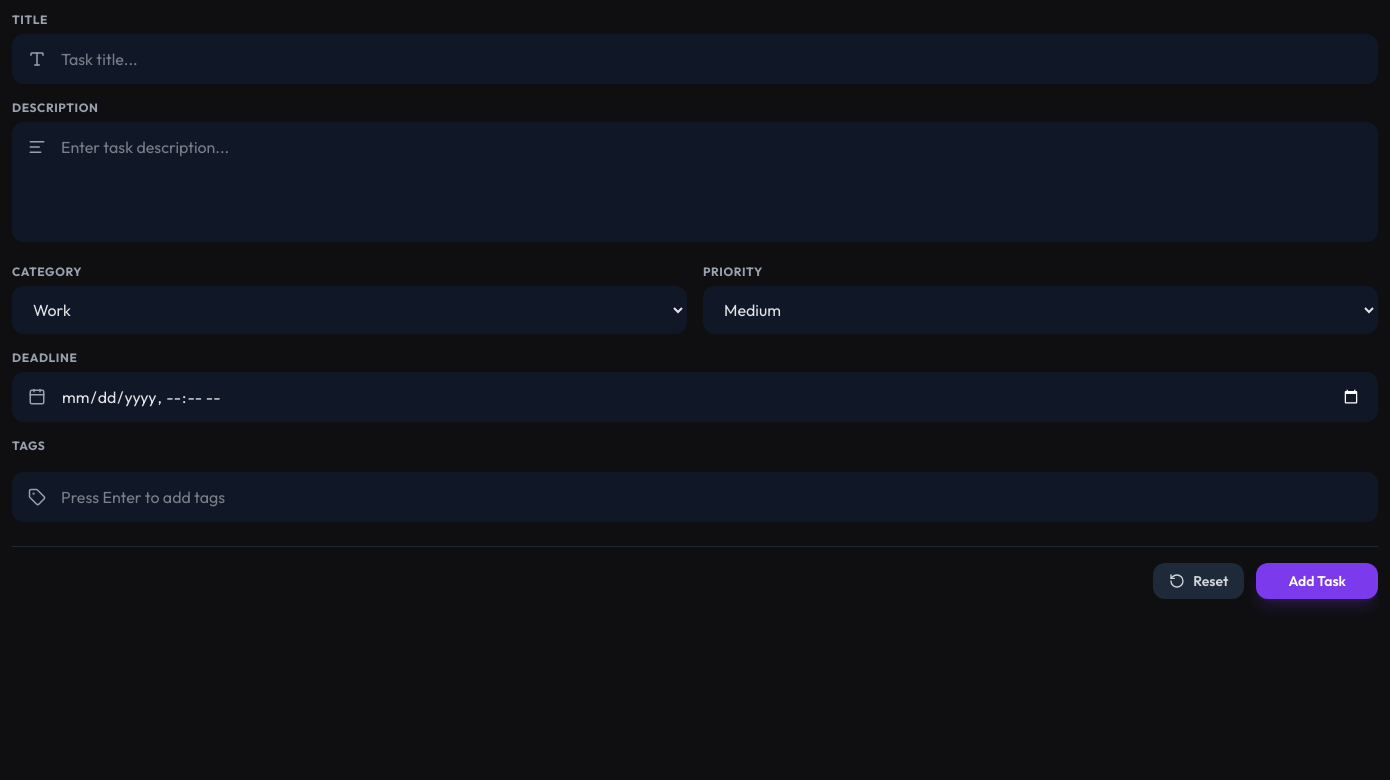
it: TaskForm Component › should show validation error when title is empty
This screenshot has width=1390, height=780.
Click the button "Add Task".
click(1317, 581)  # box [1256,563,1378,599]
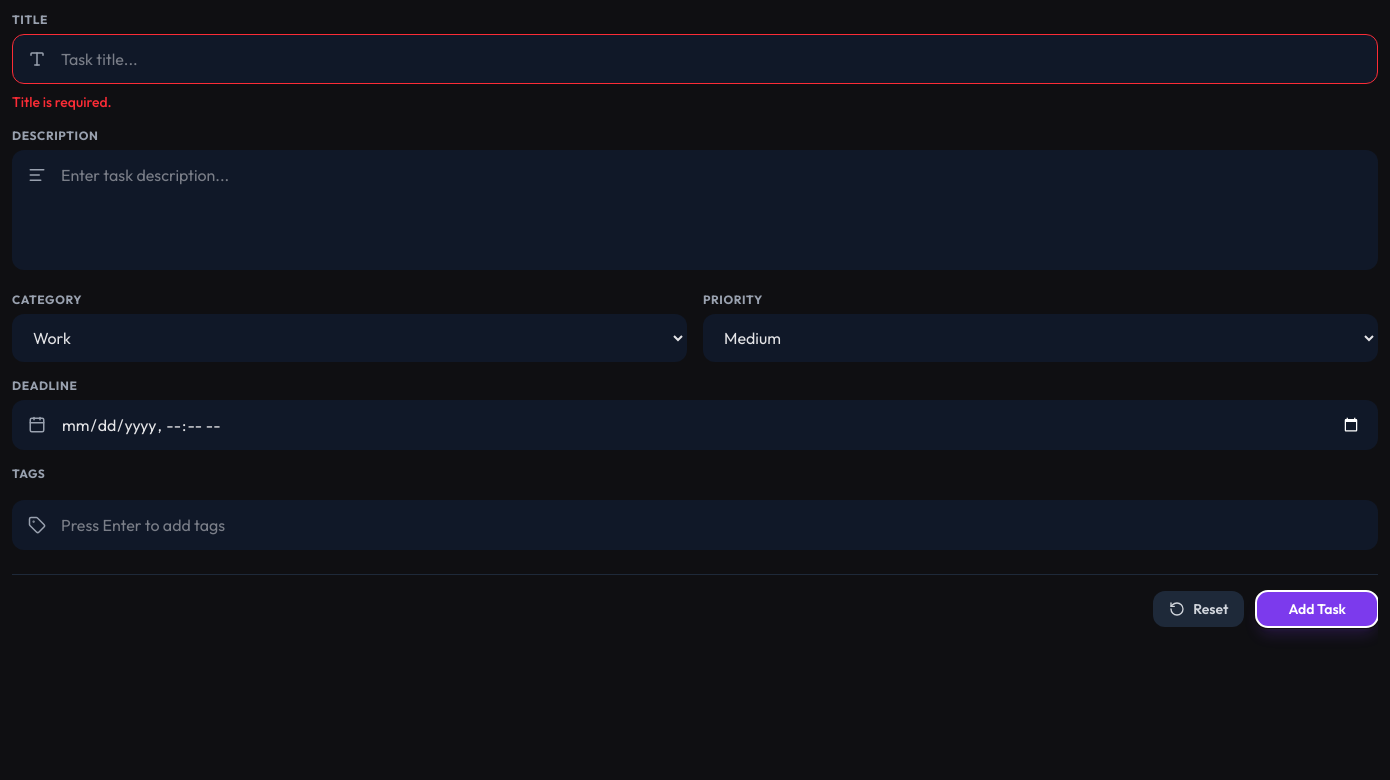
Expected: the text "Title is required." is shown, [12,93,112,111]
